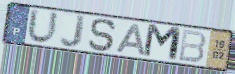A: (114, 23, 147, 57)
B: (176, 28, 208, 64)
J: (59, 13, 88, 50)
M: (142, 23, 184, 64)
S: (87, 17, 118, 53)
U: (26, 7, 61, 46)
